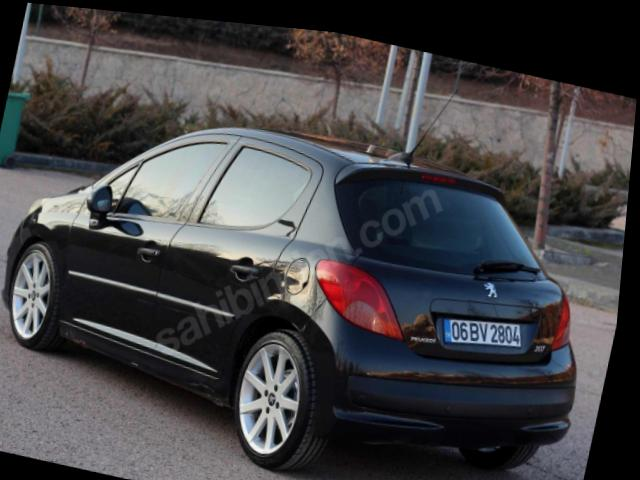plaka: (441, 318, 521, 348)
